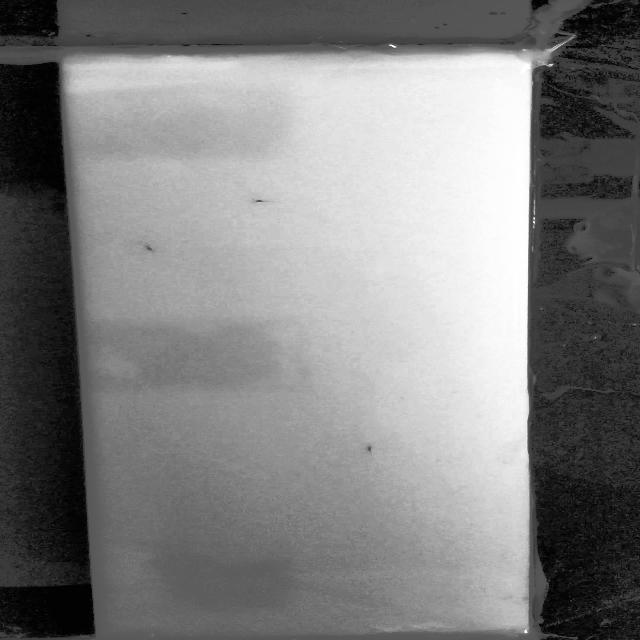shrimp: (242, 192, 281, 209), (137, 239, 163, 259), (356, 443, 376, 457)
